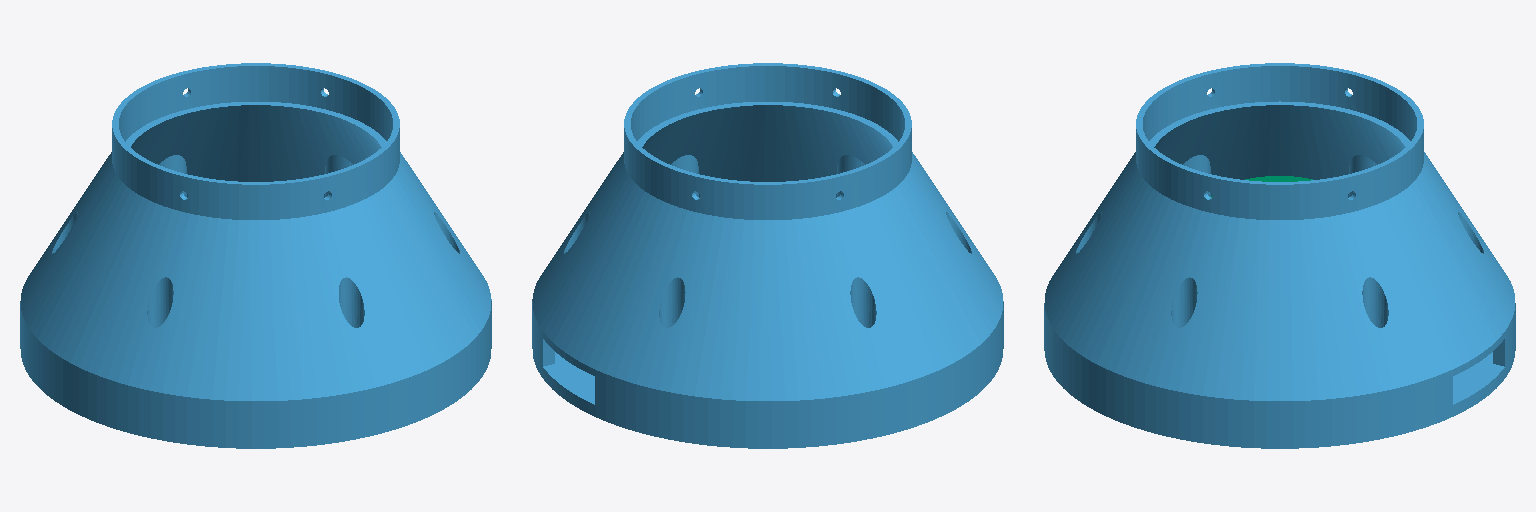
robot.urdf — builder_benchmark:
<?xml version="1.0"?>
<robot name="builder_benchmark">
  <link name="world_link"/>
  <link name="base_mesh_link">
    <visual>
      <origin xyz="0.010124 0.000214 -0.010426" rpy="0 0 0"/>
      <geometry>
        <mesh filename="../meshes/Base-1.stl" scale="0.001 0.001 0.001"/>
      </geometry>
    </visual>
    <collision>
      <origin xyz="0.000124 0.000214 -0.010426" rpy="0 0 0"/>
      <geometry>
        <mesh filename="../meshes/Base-1.stl" scale="0.001 0.001 0.001"/>
      </geometry>
    </collision>
  </link>
  <joint name="world_to_base_mesh" type="fixed">
    <origin xyz="0 0 0" rpy="0 0 0"/>
    <parent link="world_link"/>
    <child link="base_mesh_link"/>
  </joint>
  <link name="motor_mesh_link">
    <visual>
      <origin xyz="0 -0.000141 -0.025847" rpy="0 0 0"/>
      <geometry>
        <mesh filename="../meshes/Motor2.stl" scale="0.001 0.001 0.001"/>
      </geometry>
    </visual>
    <collision>
      <origin xyz="0 -0.000141 -0.025847" rpy="0 0 0"/>
      <geometry>
        <mesh filename="../meshes/Motor2.stl" scale="0.001 0.001 0.001"/>
      </geometry>
    </collision>
  </link>
  <joint name="base_to_motor_mesh" type="fixed">
    <origin xyz="0 0 0" rpy="0 0 0"/>
    <parent link="base_mesh_link"/>
    <child link="motor_mesh_link"/>
  </joint>
</robot>

--- What the picture shows (computed from the rendered views, not written in the file) ---
Views: 3 orthographic renders of the robot side by side, from view 1: azimuth 30°, elevation 25°; view 2: azimuth 150°, elevation 25°; view 3: azimuth 270°, elevation 25°.
Robot: builder_benchmark — 3 links, 2 joints (2 fixed); root link world_link; default pose: every joint at zero.
Links seen in each view (by area): view 1: base_mesh_link; view 2: base_mesh_link; view 3: base_mesh_link.
Boxes of the visible links, x1,y1,x2,y2 form: base_mesh_link: (20,63,491,448); base_mesh_link: (532,63,1003,448); base_mesh_link: (1044,63,1515,448).
Bounding box of the posed robot: 0.18 × 0.18 × 0.095 m (x, y, z).
2 mesh visuals loaded from 2 distinct referenced files (2 binary STL).
